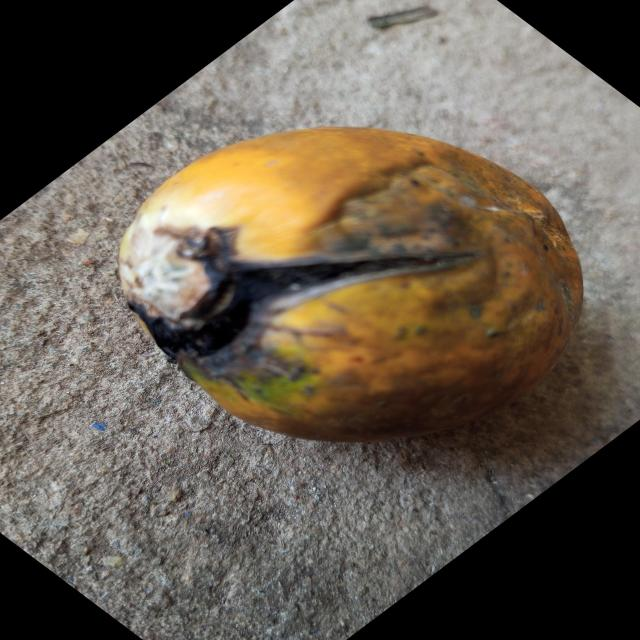damaged: (119, 128, 583, 442)
